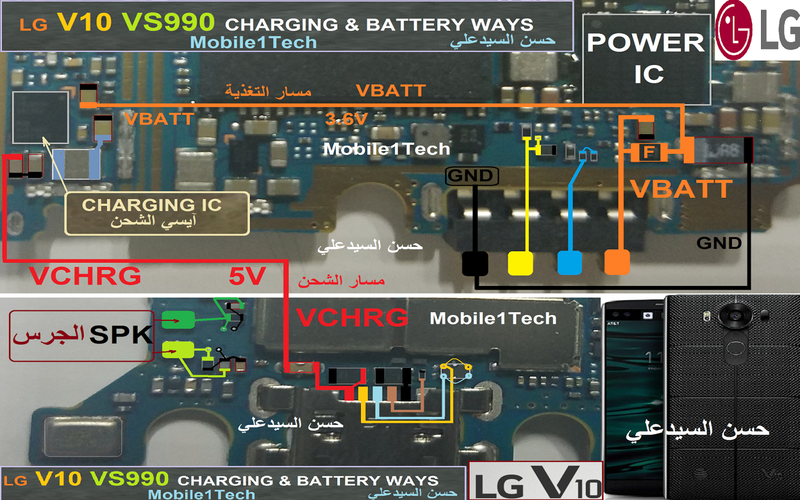Cirtuit-Board: (7, 45, 800, 288)
